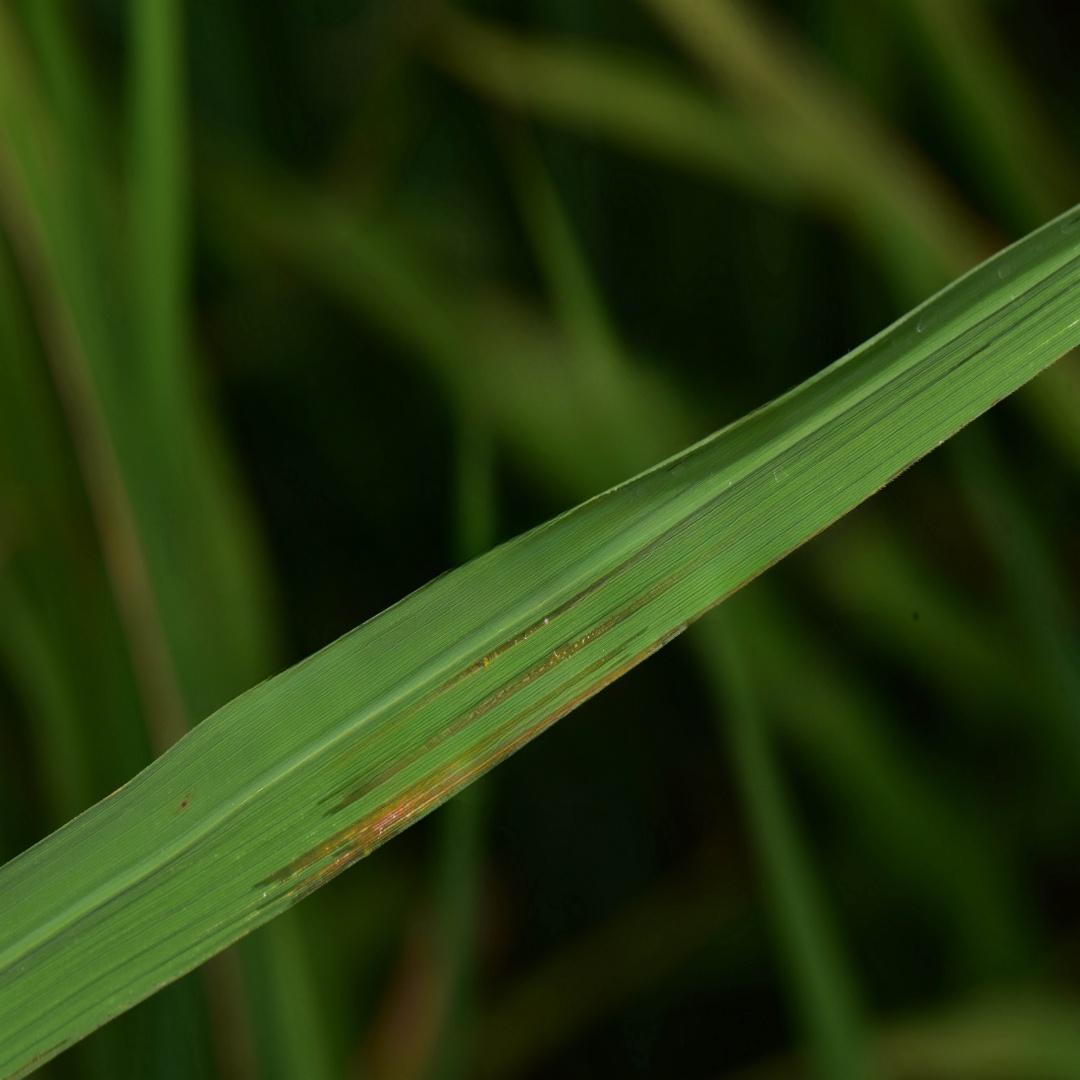BLS: (253, 622, 687, 911), (322, 537, 742, 817), (338, 490, 734, 765)
LEAF: (0, 209, 1079, 1079)
